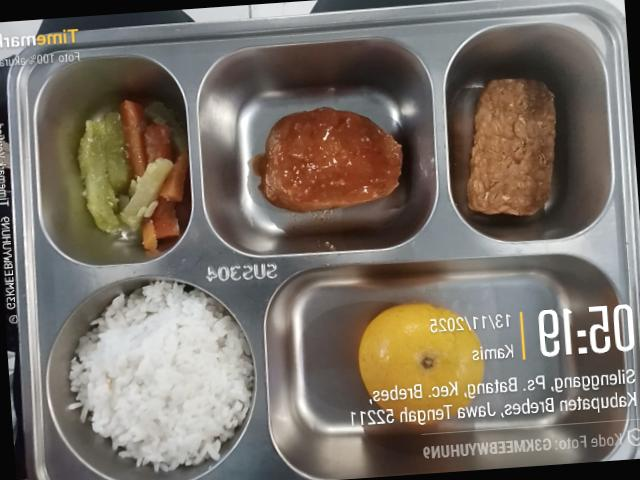ayam: (257, 107, 402, 211)
buah: (359, 303, 483, 415)
nasi: (69, 281, 253, 471)
sayur: (78, 100, 188, 249)
tempe: (467, 79, 555, 215)
